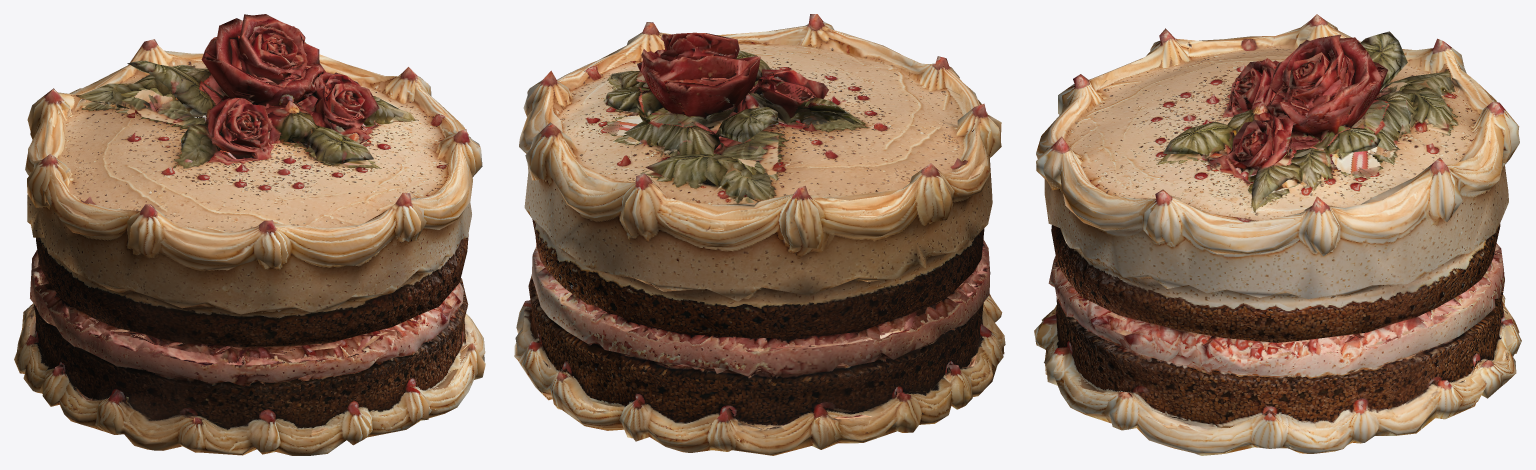
Rendered from ChocolateRoseCake.fbx.
3 views of the same model, side by side, from view 1: azimuth 30°, elevation 25°; view 2: azimuth 150°, elevation 25°; view 3: azimuth 270°, elevation 25° (orthographic). The views are drawn at different scales.
Visible parts, largest first — view 1: texture_mapping; view 2: texture_mapping; view 3: texture_mapping.
Boxes of the visible parts, bbox=[...] form: texture_mapping: bbox=[14, 14, 485, 455]; texture_mapping: bbox=[514, 14, 1005, 455]; texture_mapping: bbox=[1034, 14, 1521, 455].
Size of the model in its own units: 0.9921 by 0.9911 by 0.7575.
1 material, 1 textured.
